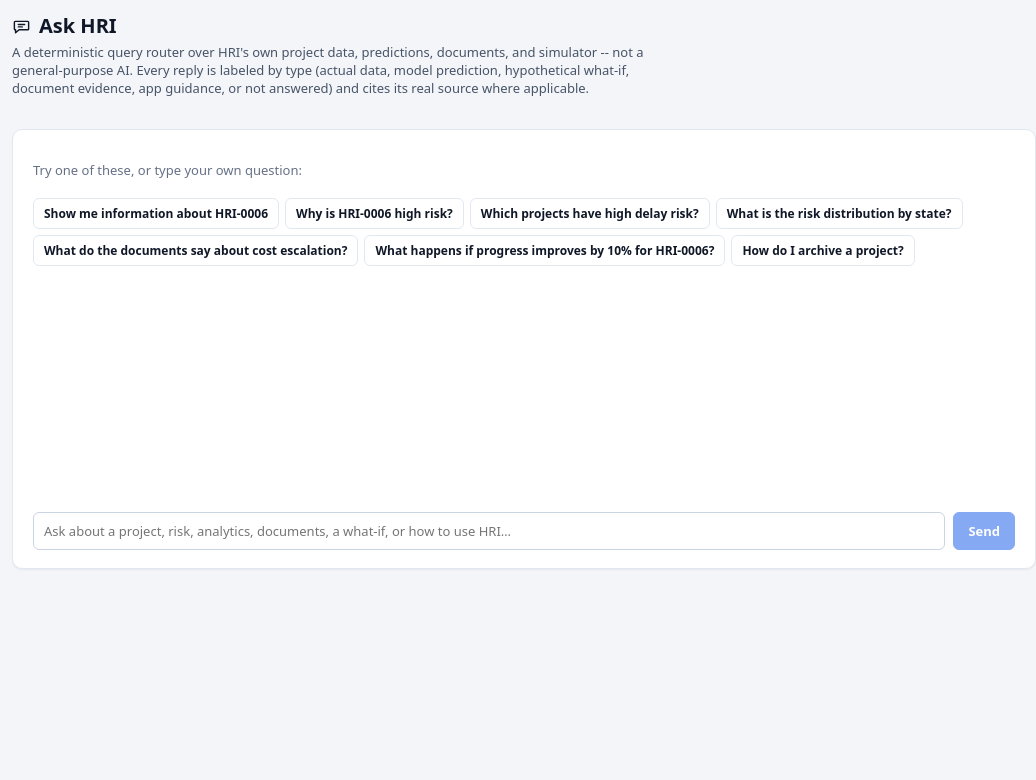
Test case: AskHRI page › renders citations for a document-evidence response
Replace the text in the field named "Ask HRI" with "What do the documents say about cost escalation?": (489,531) [33,512,945,550]
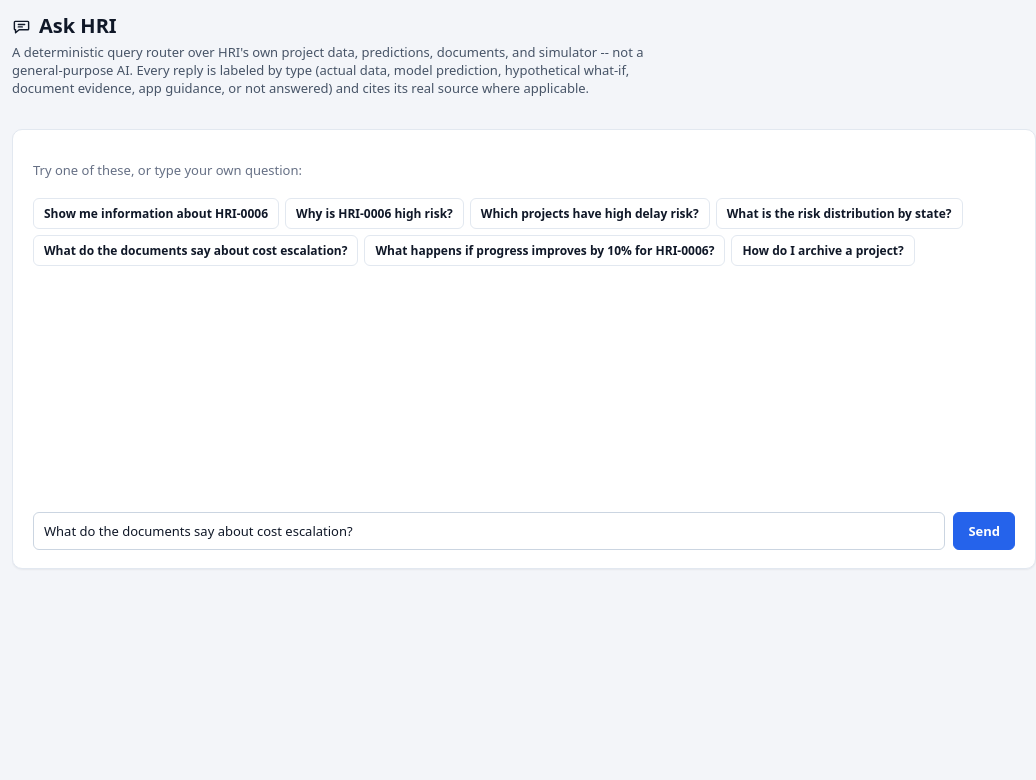
Click the button "Send": (984,531) [953,512,1015,550]
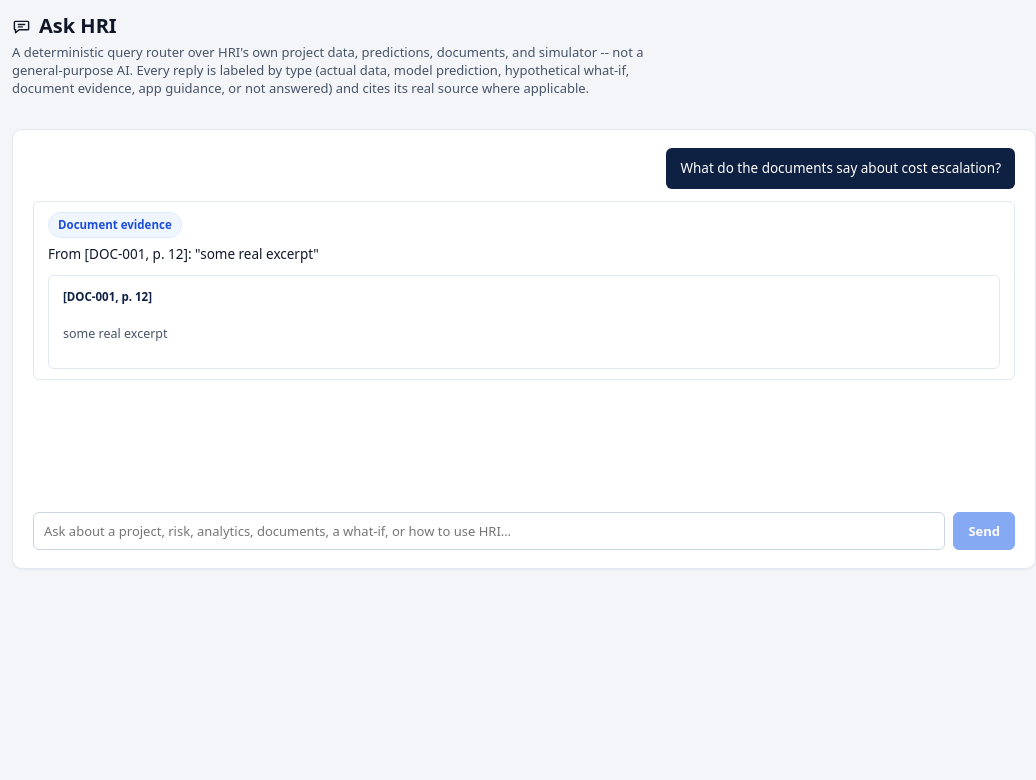
Expected: the text "Document evidence" is shown, [48,212,182,238]
Expected: the text "[DOC-001, p. 12]" is shown, [63,288,152,306]
Expected: the text "some real excerpt" is shown, [63,325,168,342]
